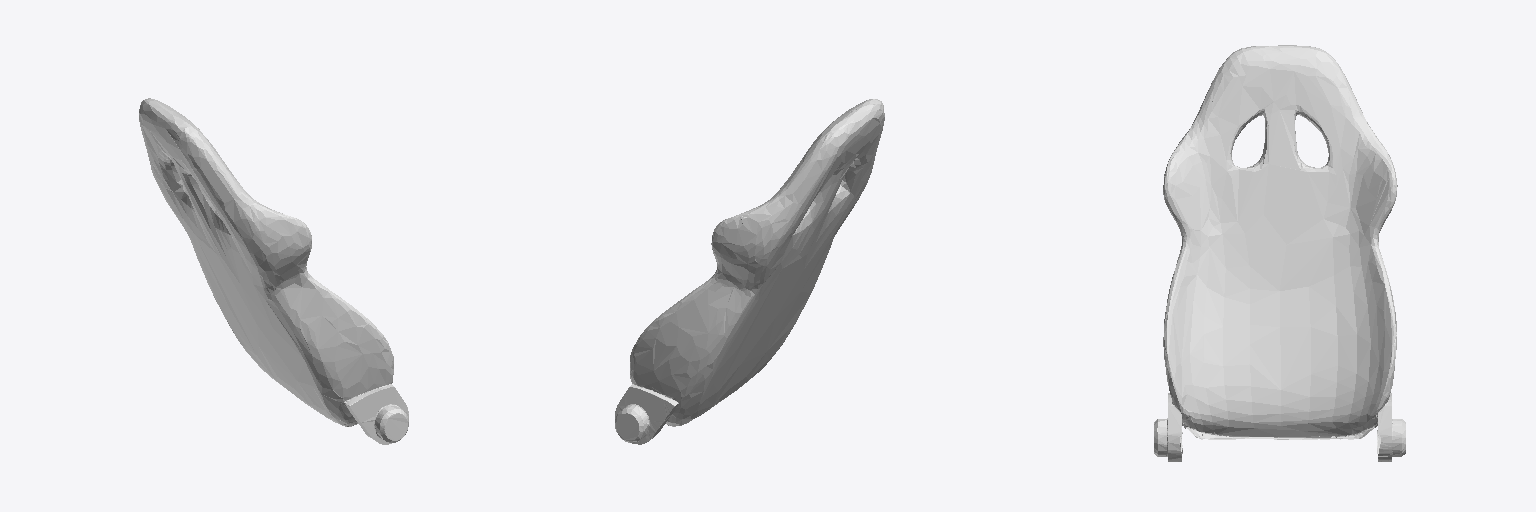
File: seatBackrest.obj
The picture shows the model from 3 angles: view 1: azimuth 30°, elevation 25°; view 2: azimuth 150°, elevation 25°; view 3: azimuth 270°, elevation 25°; orthographic projection.
Visible parts, largest first — view 1: CockpitSeat_Scene; view 2: CockpitSeat_Scene; view 3: CockpitSeat_Scene.
Part boxes in pixels (x1,y1,x2,y2): CockpitSeat_Scene: (139,98,408,444); CockpitSeat_Scene: (615,99,884,444); CockpitSeat_Scene: (1154,45,1405,461).
Bounding box in the file's own units: 0.4892 × 0.7961 × 0.5462.